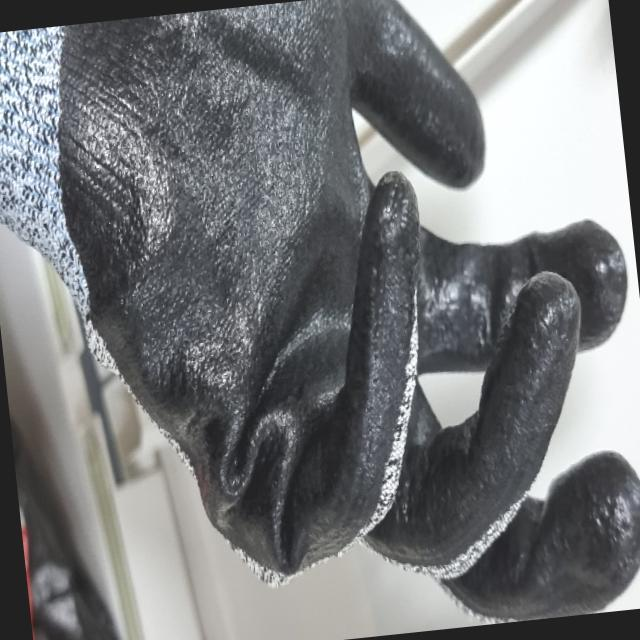Gloves: (0, 0, 638, 632)
